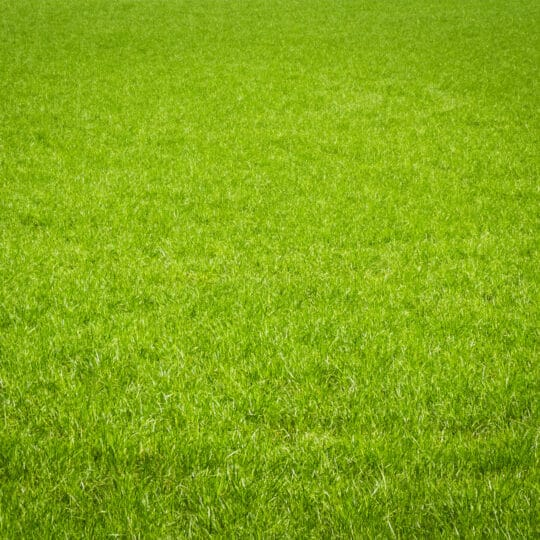grass: (1, 5, 540, 540)
